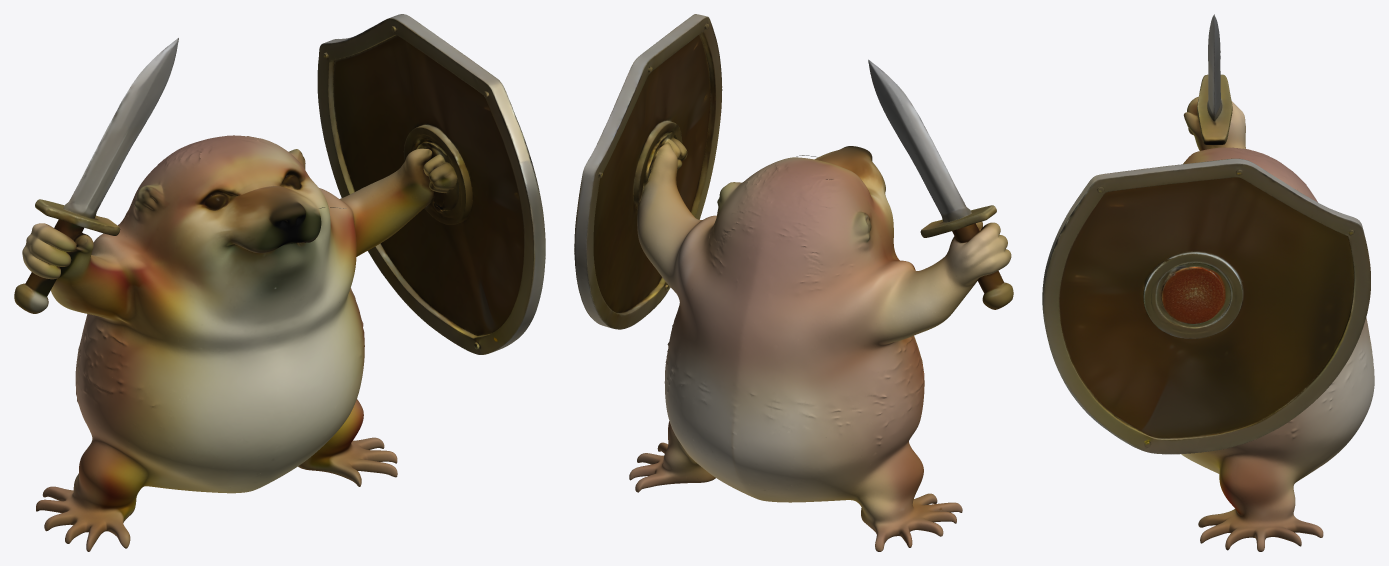
The model's file is what_da_dog_doin.glb.
3 renders of one model, left to right at view 1: azimuth 30°, elevation 25°; view 2: azimuth 150°, elevation 25°; view 3: azimuth 270°, elevation 25°, orthographic. The views are drawn at different scales.
Visible parts, largest first — view 1: Object_3, Object_4, Object_7, Object_6, Object_5, Object_8; view 2: Object_4, Object_3, Object_7, Object_6, Object_5, Object_8; view 3: Object_5, Object_7, Object_6, Object_4, Object_3.
Boxes of the visible parts, x1,y1,x2,y2 form: Object_3: (14, 168, 322, 492); Object_4: (36, 137, 418, 517); Object_7: (36, 17, 545, 551); Object_6: (36, 14, 545, 551); Object_5: (36, 49, 543, 540); Object_8: (297, 87, 469, 310); Object_4: (638, 146, 924, 547); Object_3: (704, 159, 1013, 501); Object_7: (574, 14, 993, 547); Object_6: (574, 17, 995, 551); Object_5: (636, 14, 948, 545); Object_8: (595, 144, 715, 313); Object_5: (1043, 151, 1356, 520); Object_7: (1042, 14, 1370, 546); Object_6: (1042, 58, 1370, 551); Object_4: (1181, 147, 1374, 528); Object_3: (1183, 74, 1373, 436).
Size of the model in its own units: 1.75 by 1.87 by 1.28.
1 material, 1 textured.
